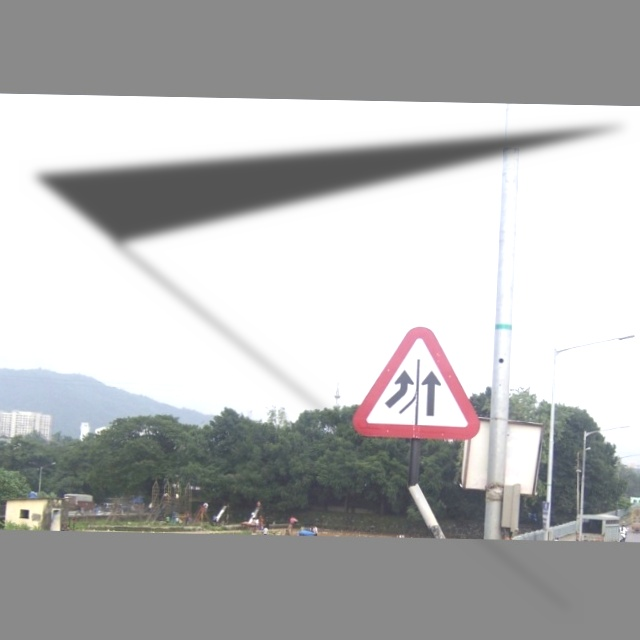Merge_Traffic_Ahead: (350, 326, 489, 446)
